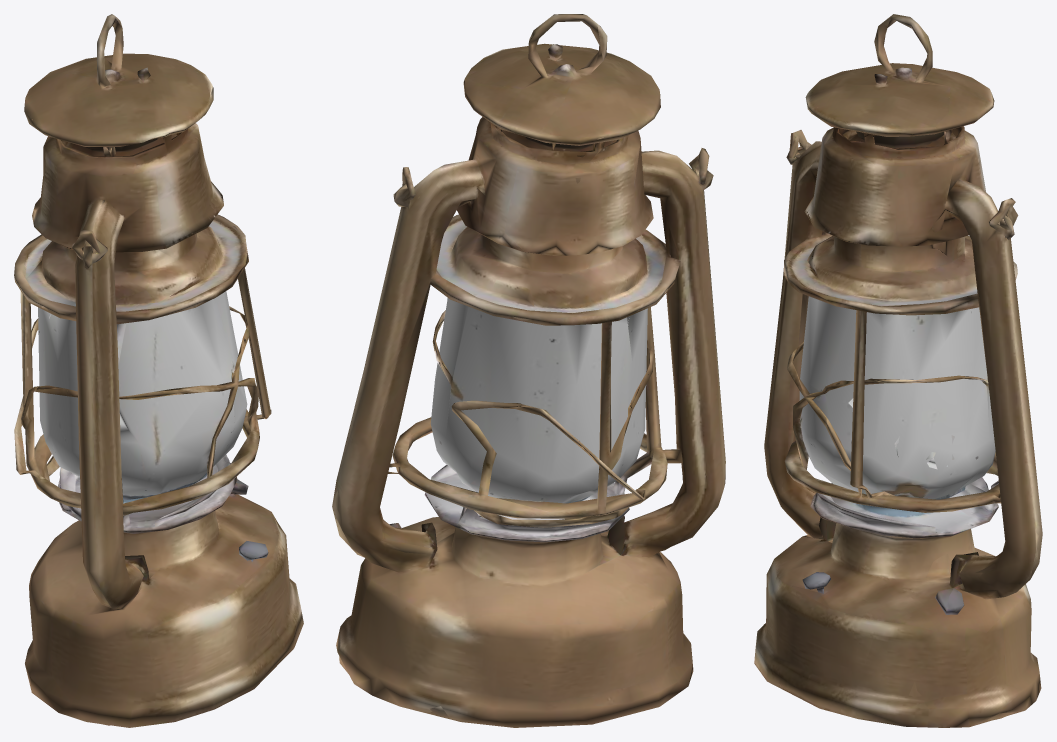
The model's file is ship-lamp.glb.
The picture shows the model from 3 angles, left to right: view 1: azimuth 30°, elevation 25°; view 2: azimuth 150°, elevation 25°; view 3: azimuth 270°, elevation 25°; orthographic projection. The views are drawn at different scales.
Bounding box in the file's own units: 0.9854 × 2.2 × 0.8979.
1 material, 1 textured.
